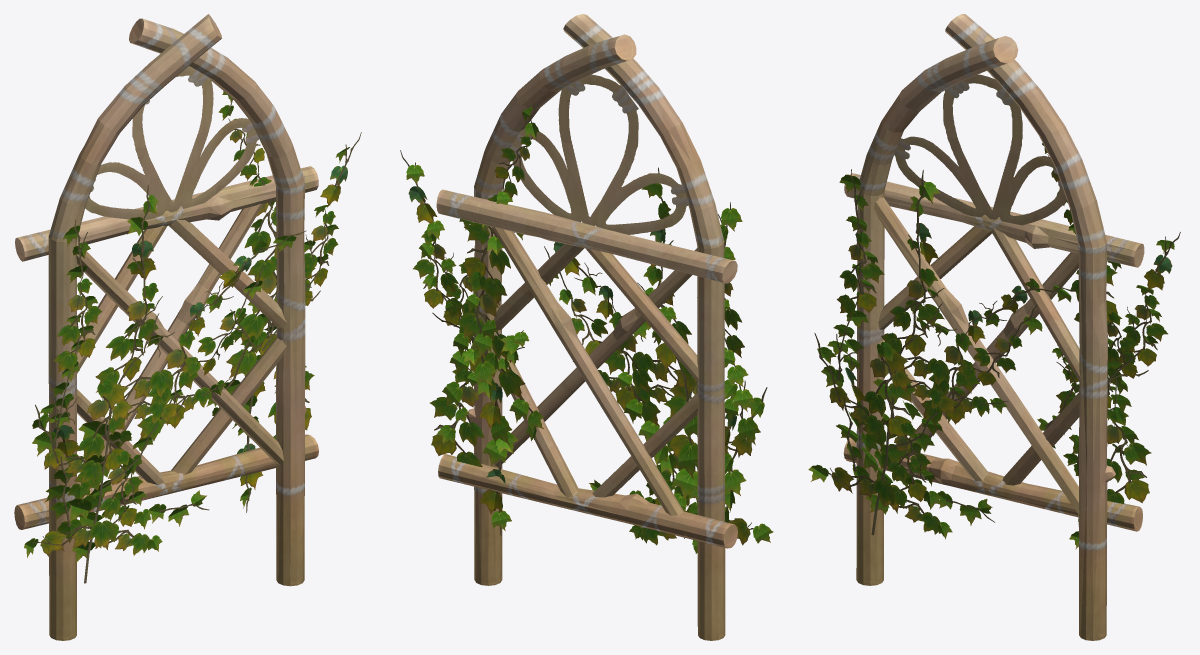
File: P_Rose01.obj
3 views of the same model, side by side, from view 1: azimuth 30°, elevation 25°; view 2: azimuth 150°, elevation 25°; view 3: azimuth 330°, elevation 25° (orthographic).
Bounding box in the file's own units: 2.17 × 3.34 × 0.4337.
3 materials, 3 textured.
